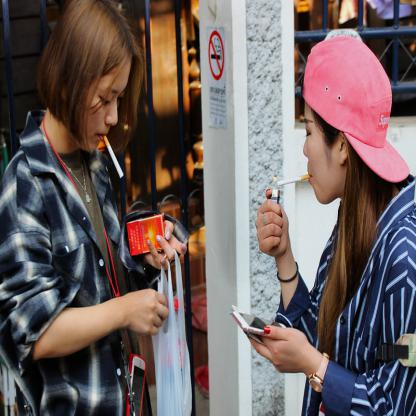smoking: (102, 133, 124, 178), (278, 174, 312, 186)
